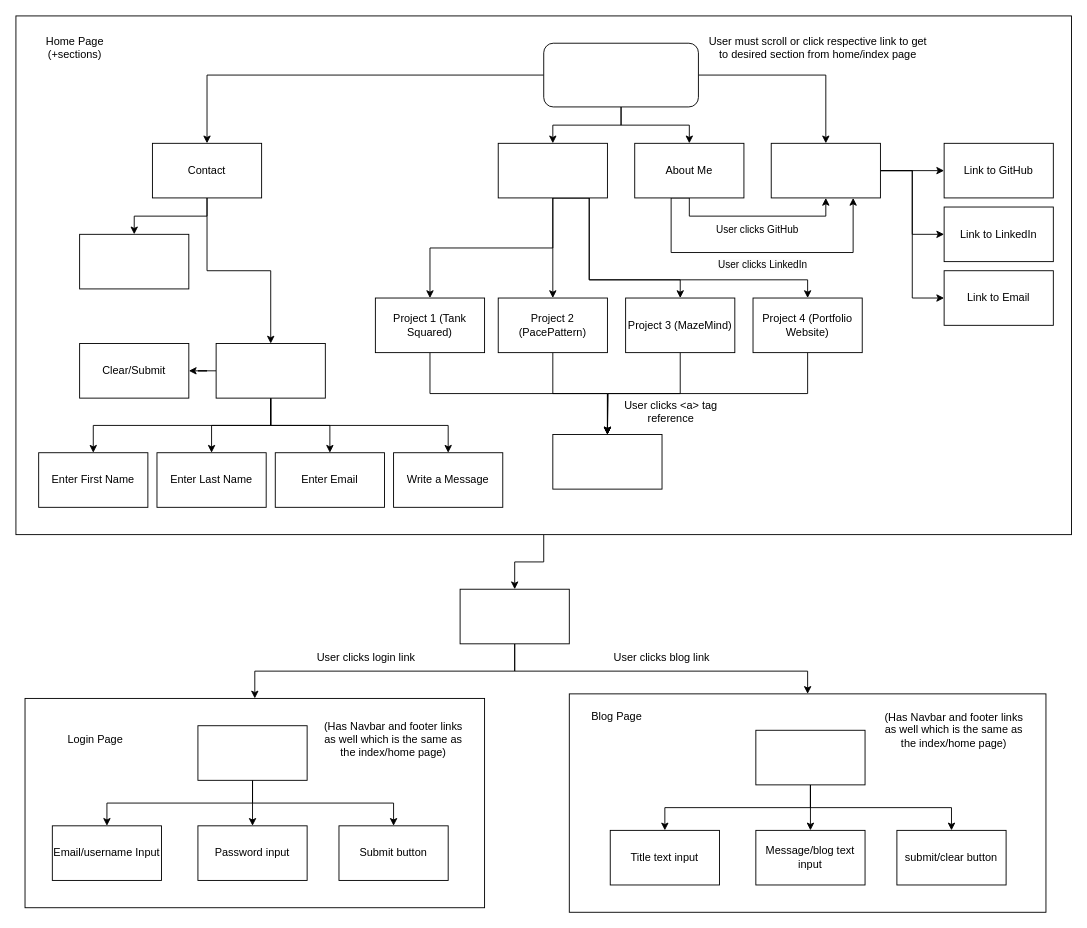
Image size: 1087x928. Some labels were removed from this diagram. The box of each missing label's shape, as (x1, y1, x2, y2) in pixels:
blog.html: (755, 729, 865, 785)
Contact Form: (215, 343, 325, 398)
Corresponding project on GitHub: (552, 434, 662, 489)
Email + Phone Number: (79, 233, 189, 289)
Home (index.html): (543, 42, 698, 107)
Links (Footer, bottom of page): (770, 142, 880, 198)
login.html: (197, 725, 307, 780)
Navbar: (459, 588, 569, 644)
Projects: (497, 142, 607, 198)
